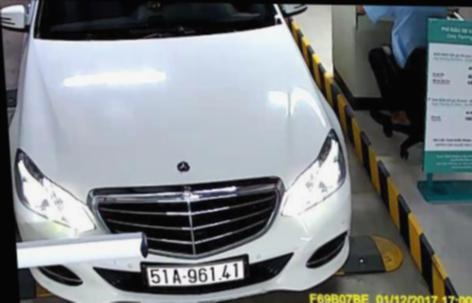License_Plate: (143, 260, 246, 288)
